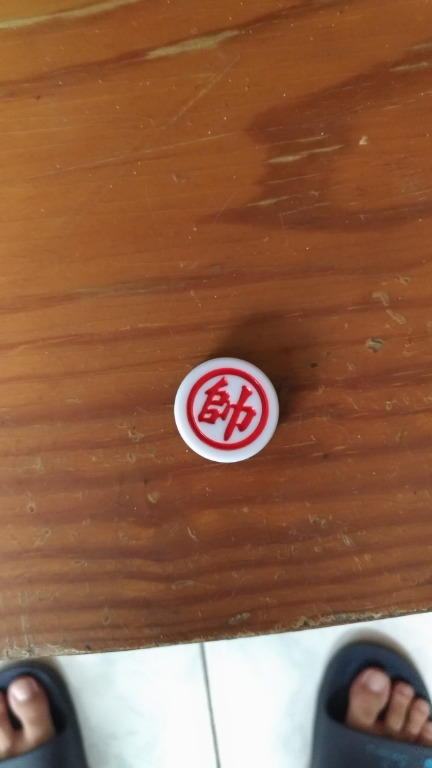r-king: (169, 355, 287, 471)
